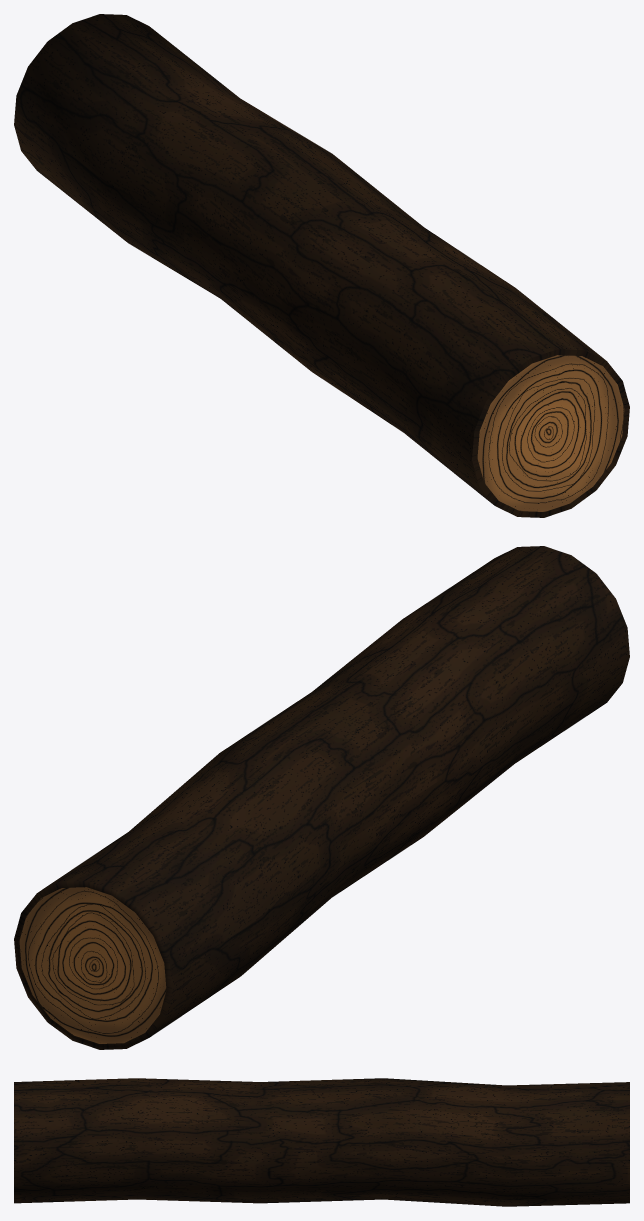
The model's file is Mesh_Product_Log.fbx.
3 views of the same model, one above another, from view 1: azimuth 30°, elevation 25°; view 2: azimuth 150°, elevation 25°; view 3: azimuth 270°, elevation 25° (orthographic). The views are drawn at different scales.
Visible parts, largest first — view 1: Product_Log; view 2: Product_Log; view 3: Product_Log.
Boxes of the visible parts, x1,y1,x2,y2 form: Product_Log: (14,14,629,517); Product_Log: (14,546,629,1049); Product_Log: (14,1078,629,1206).
Bounding box in the file's own units: 30.06 × 31.91 × 150.
2 materials, 2 textured.
